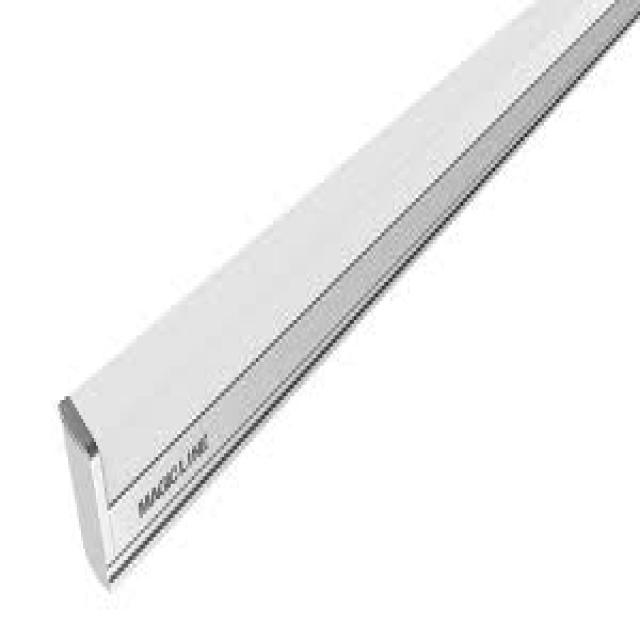tubelight_off: (50, 0, 640, 605)
